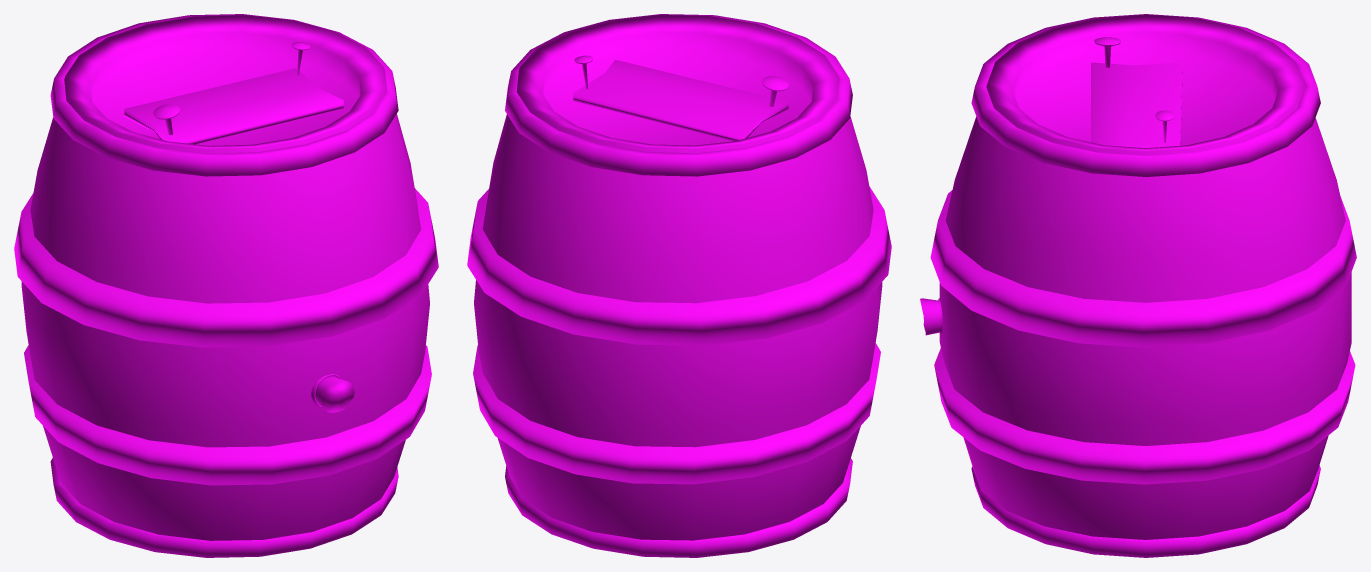
File: Barrel_Model.fbx
3 renders of one model, left to right at view 1: azimuth 30°, elevation 25°; view 2: azimuth 150°, elevation 25°; view 3: azimuth 270°, elevation 25°, orthographic.
Parts seen in each view (by area): view 1: Barrel; view 2: Barrel; view 3: Barrel.
Part boxes in pixels (x1,y1,x2,y2): Barrel: [14, 14, 438, 557]; Barrel: [467, 14, 891, 557]; Barrel: [920, 14, 1356, 557].
Bounding box in the file's own units: 90.95 × 97.35 × 93.2.
